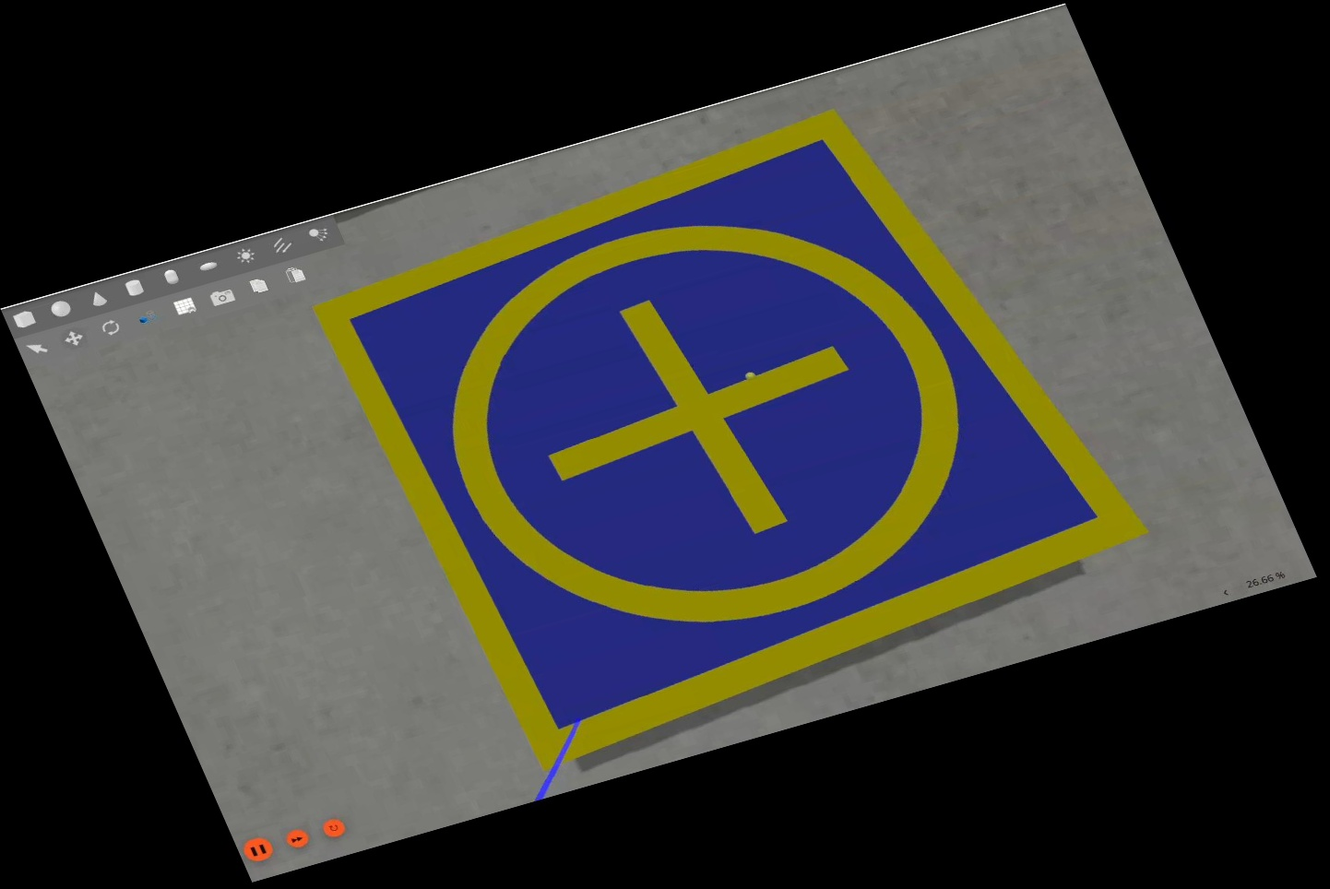small_base: (295, 77, 1182, 783)
